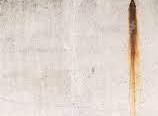Corrosion: (127, 1, 140, 116)
